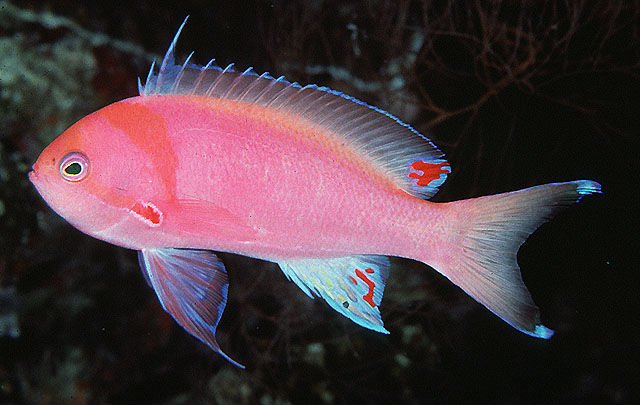fish: (28, 15, 604, 370)
